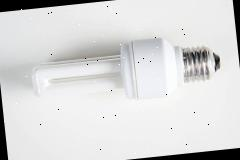lightbulb: (28, 30, 222, 110)
